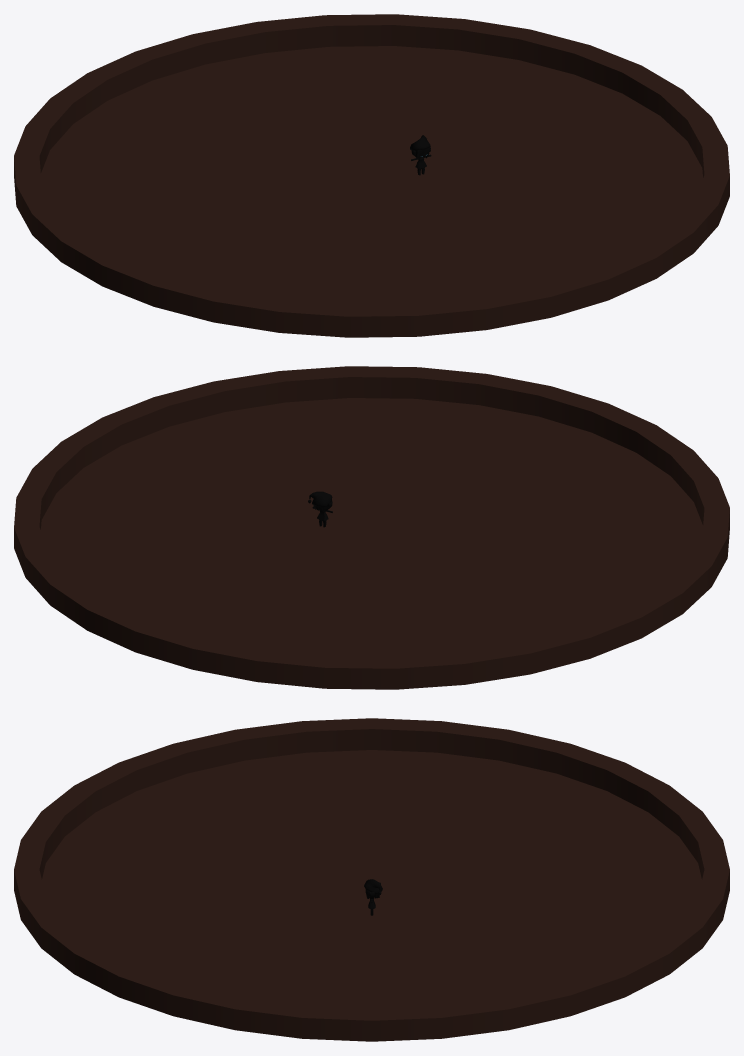
Rendered from TreeHouse.fbx.
3 views of the same model, one above another, from view 1: azimuth 30°, elevation 25°; view 2: azimuth 150°, elevation 25°; view 3: azimuth 270°, elevation 25° (orthographic).
Visible parts, largest first — view 1: Cylinder.001, Cylinder; view 2: Cylinder.001, Cylinder, Cube.001; view 3: Cylinder.001, Cylinder.
Boxes of the visible parts, bbox=[...] form: Cylinder.001: bbox=[41, 46, 702, 305]; Cylinder: bbox=[14, 14, 729, 337]; Cylinder.001: bbox=[41, 398, 702, 657]; Cylinder: bbox=[14, 366, 729, 689]; Cube.001: bbox=[308, 491, 332, 527]; Cylinder.001: bbox=[42, 750, 701, 1009]; Cylinder: bbox=[14, 718, 729, 1041].
Bounding box in the file's own units: 3790 × 207 × 3790.
